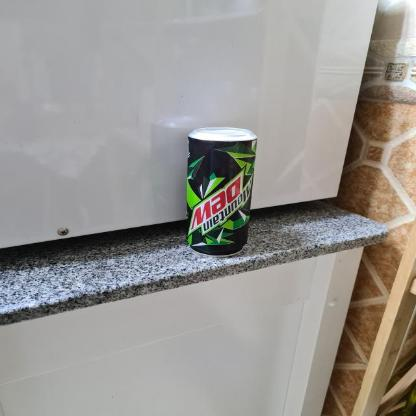Can: (180, 126, 262, 256)
